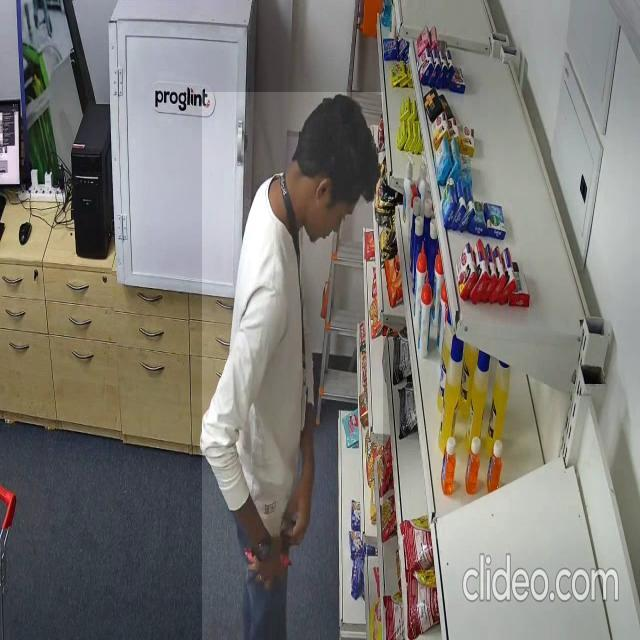Shoplifting: (202, 92, 383, 640)
